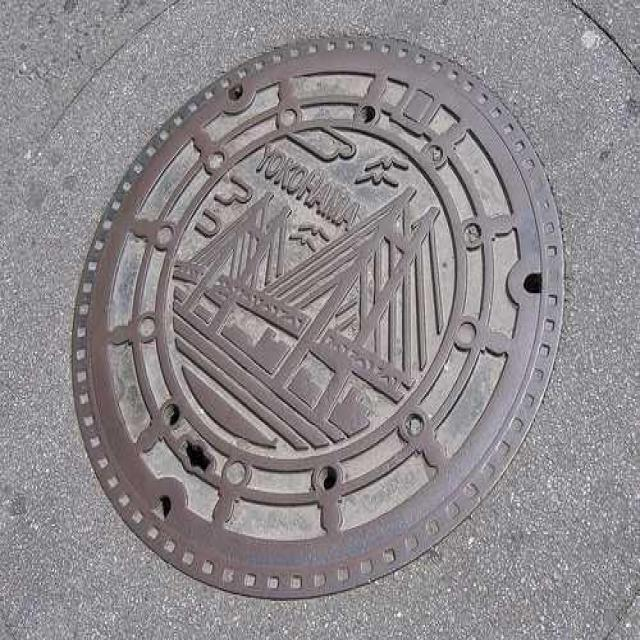manhole: (69, 39, 564, 604)
